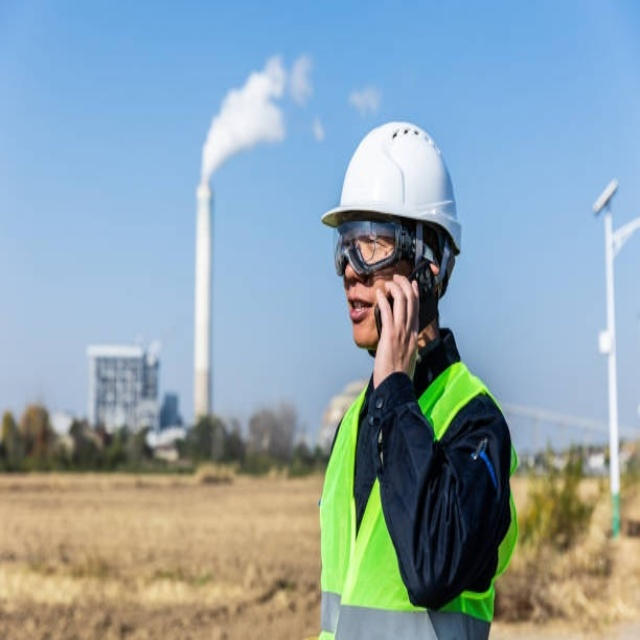Gafas: (333, 220, 444, 280)
Sin_guantes: (371, 277, 424, 381)
Sin_mascara: (345, 282, 374, 339)
